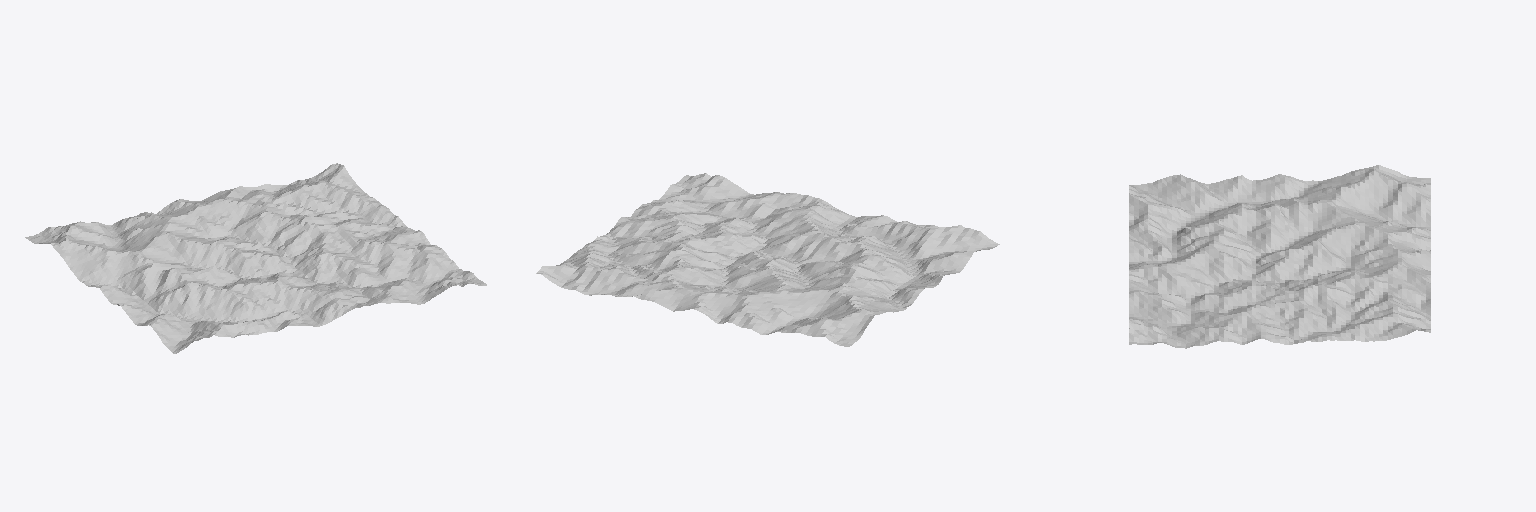
3 views of the same model, side by side, from view 1: azimuth 30°, elevation 25°; view 2: azimuth 150°, elevation 25°; view 3: azimuth 270°, elevation 25° (orthographic).
Parts seen in each view (by area): view 1: EXPORT_GOOGLE_SAT_WM.033; view 2: EXPORT_GOOGLE_SAT_WM.033; view 3: EXPORT_GOOGLE_SAT_WM.033.
Boxes of the visible parts, x1,y1,x2,y2 form: EXPORT_GOOGLE_SAT_WM.033: [25, 163, 486, 353]; EXPORT_GOOGLE_SAT_WM.033: [536, 173, 999, 346]; EXPORT_GOOGLE_SAT_WM.033: [1129, 165, 1430, 348].
Size of the model in its own units: 36498 by 3640 by 30415.